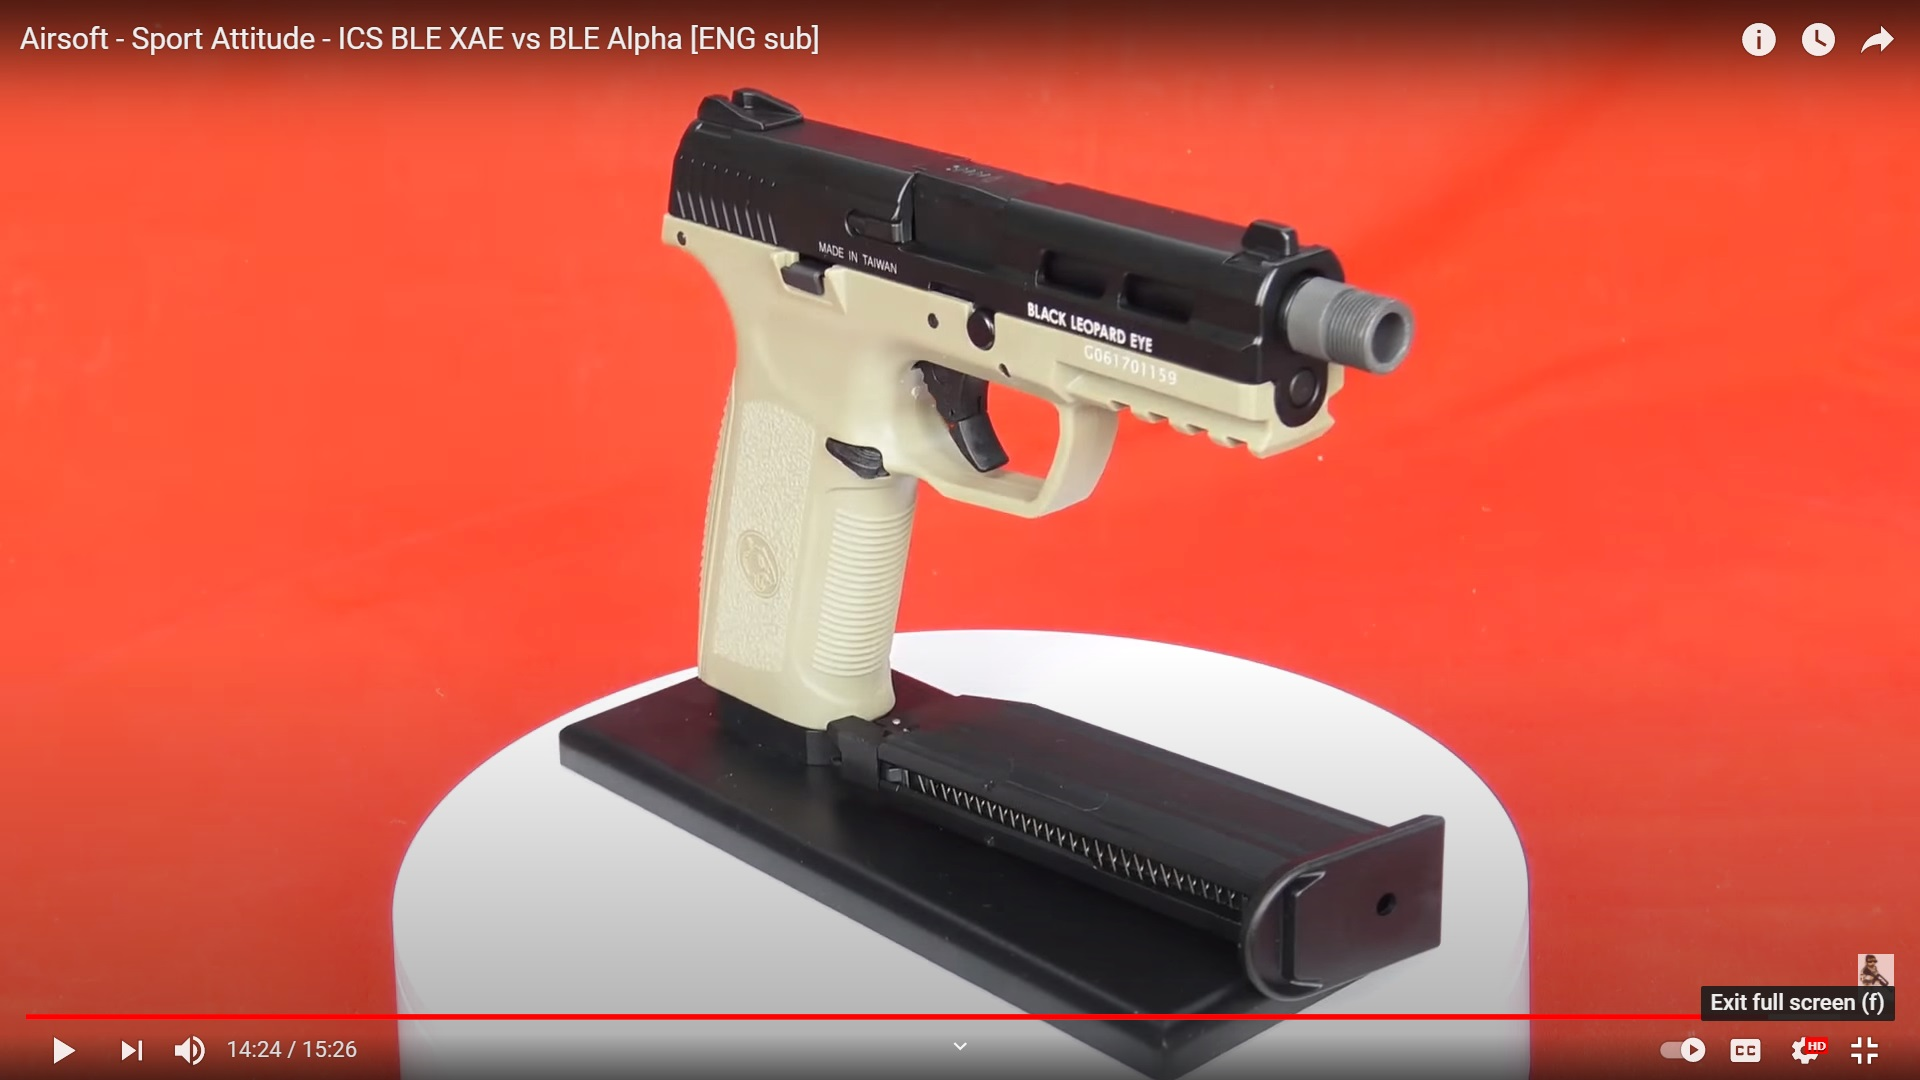asg_ics_ble_xae: (651, 82, 1386, 740)
